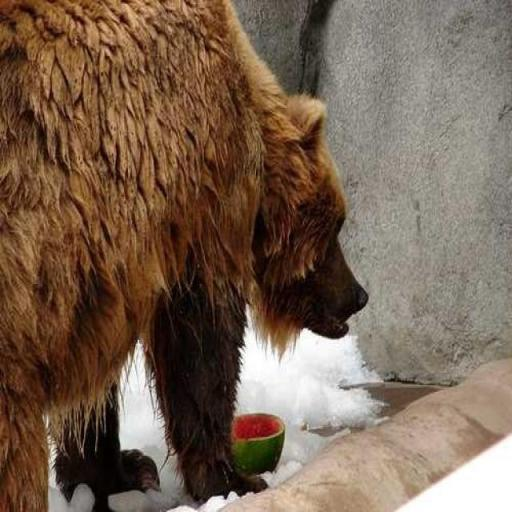Bear: (0, 0, 369, 510)
